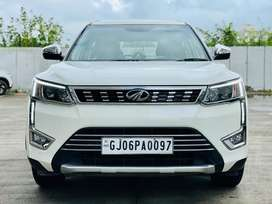GJ06PA0097: (101, 136, 173, 154)
